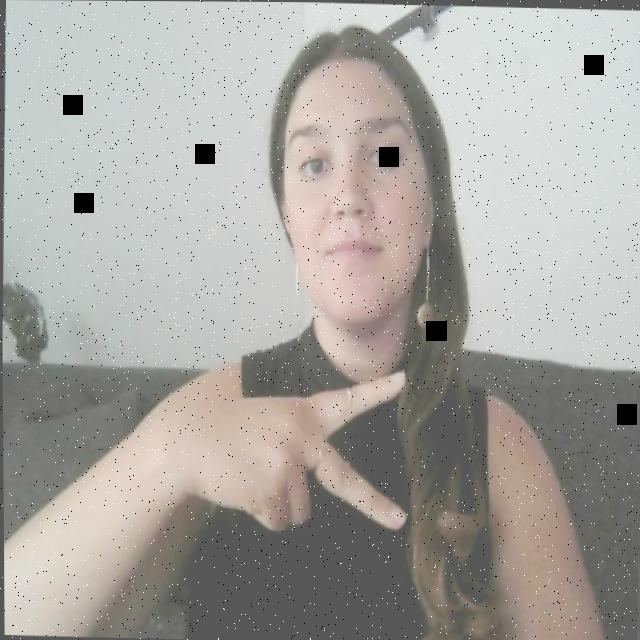Scissors: (163, 365, 411, 540)
